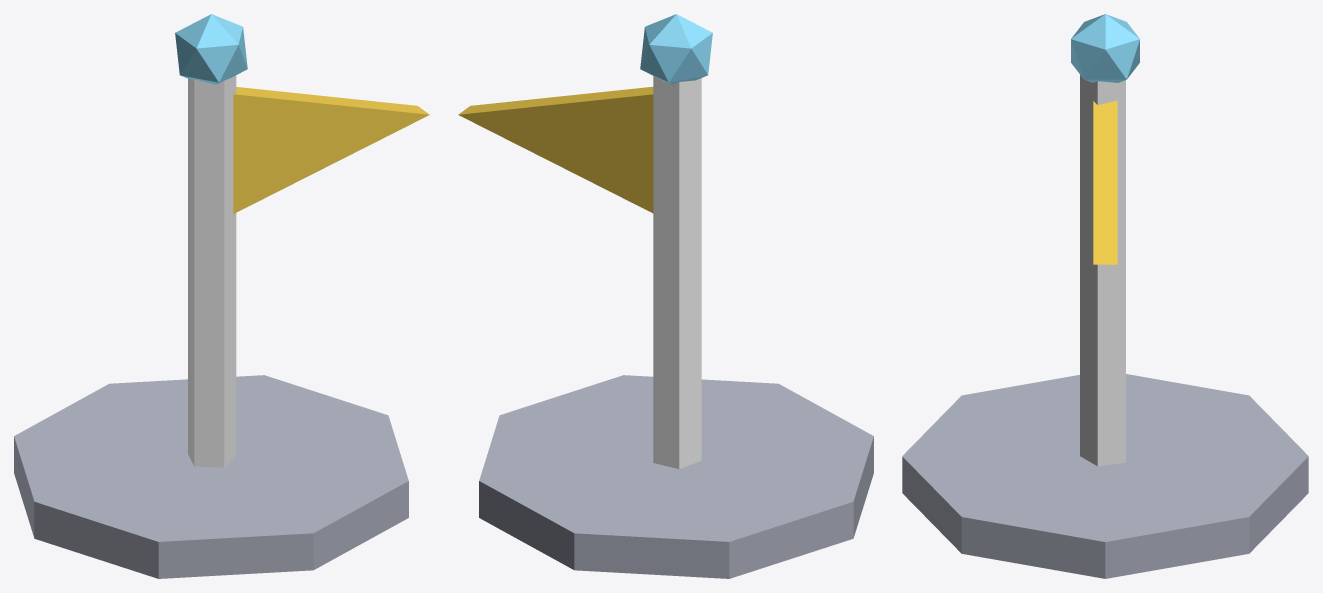
File: flag.glb
The picture shows the model from 3 angles, left to right: view 1: azimuth 30°, elevation 25°; view 2: azimuth 150°, elevation 25°; view 3: azimuth 270°, elevation 25°; orthographic projection.
Visible parts, largest first — view 1: space-flag; view 2: space-flag; view 3: space-flag.
Part boxes in pixels (x1,y1,x2,y2): space-flag: [14, 14, 429, 578]; space-flag: [458, 14, 873, 578]; space-flag: [902, 14, 1308, 578].
Size of the model in its own units: 0.44 by 0.52 by 0.4.
